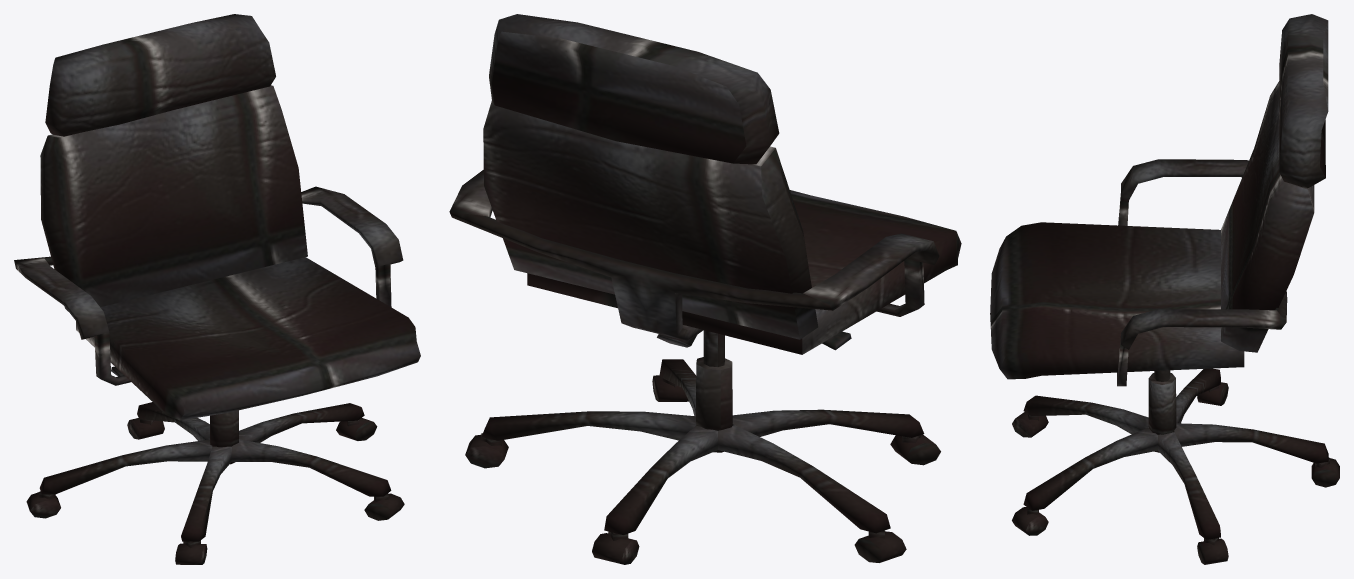
Rendered from chair.obj.
3 views of the same model, side by side, from view 1: azimuth 30°, elevation 25°; view 2: azimuth 150°, elevation 25°; view 3: azimuth 270°, elevation 25° (orthographic). The views are drawn at different scales.
Parts seen in each view (by area): view 1: office_chair; view 2: office_chair; view 3: office_chair.
Part boxes in pixels (<box>): office_chair: <box>14,14,420,564</box>; office_chair: <box>449,14,961,564</box>; office_chair: <box>990,14,1339,564</box>.
Size of the model in its own units: 1.09 by 1.22 by 0.9161.
Materials: 1 (1 with a texture image).
